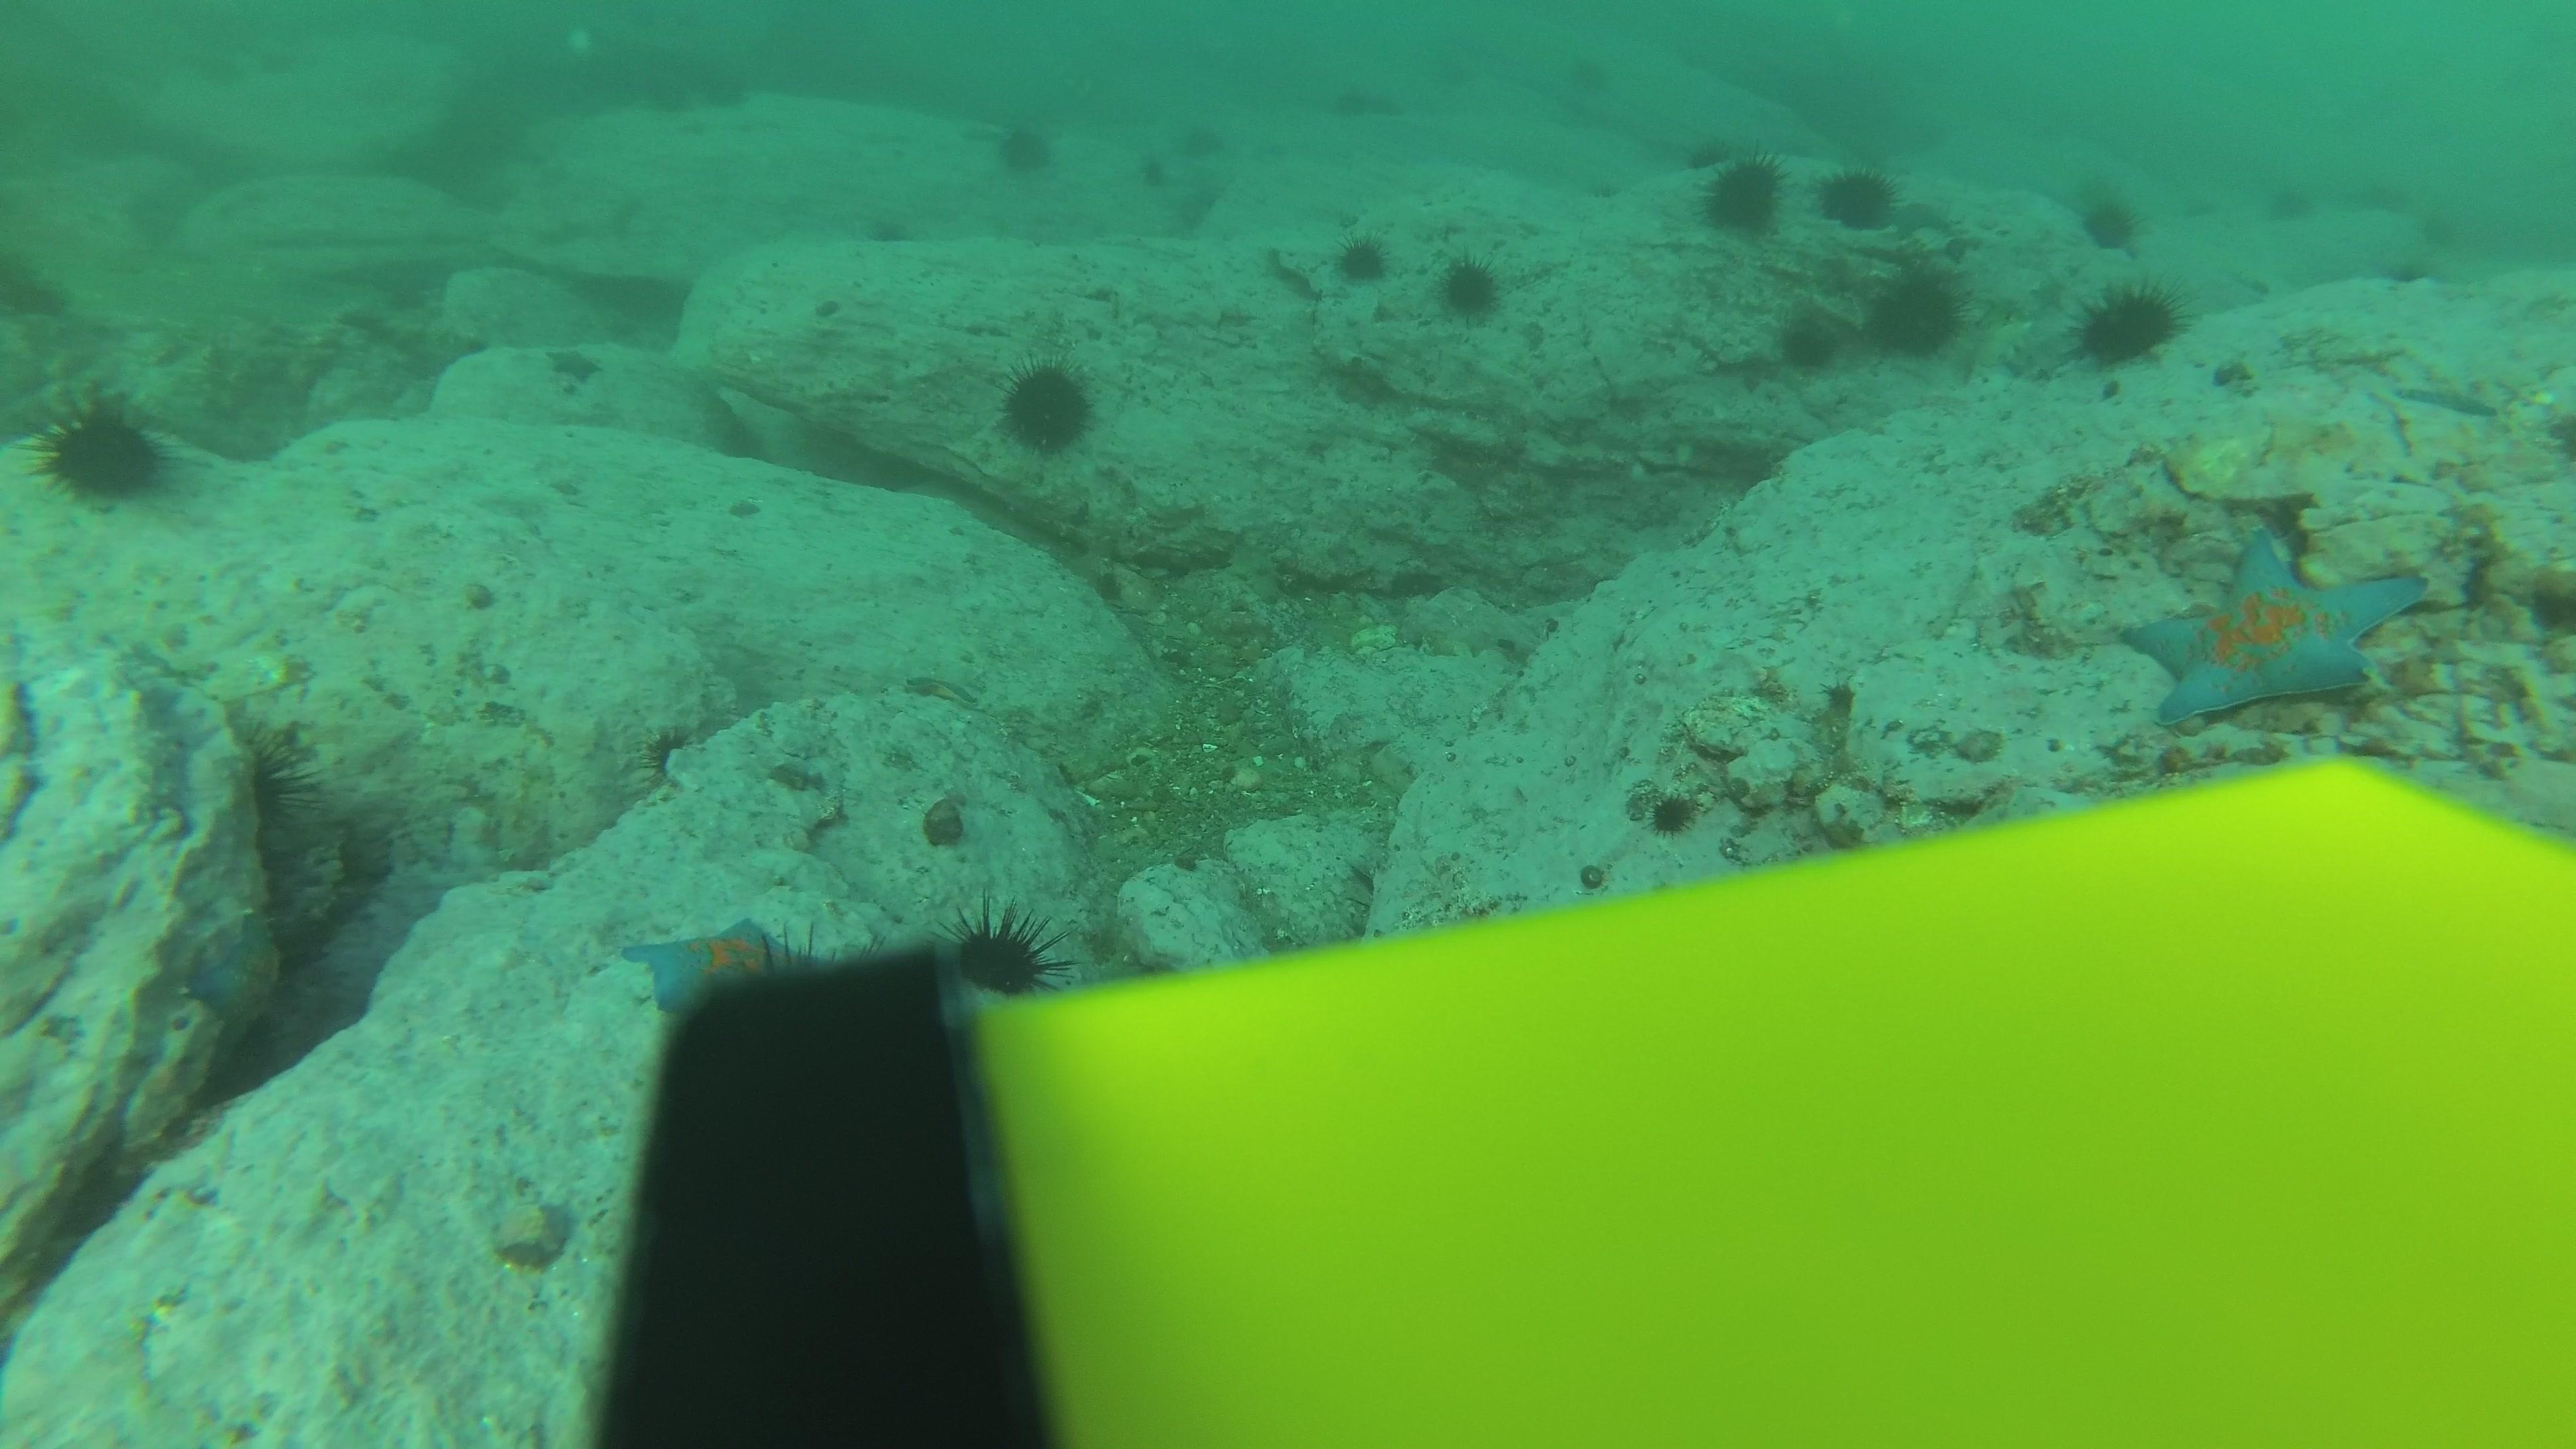echinus: (32, 389, 173, 511), (195, 713, 336, 833), (941, 904, 1063, 1001), (996, 356, 1100, 458), (2072, 278, 2181, 370), (1867, 264, 1966, 361), (1697, 150, 1785, 239), (1817, 161, 1898, 232), (1435, 251, 1507, 324), (2075, 186, 2143, 251), (991, 115, 1058, 180), (1775, 310, 1840, 373), (1332, 230, 1391, 287), (702, 73, 761, 122), (855, 207, 913, 257), (1177, 115, 1233, 163), (2263, 186, 2323, 228), (1341, 87, 1396, 127), (1684, 133, 1737, 173), (1576, 168, 1629, 209), (1568, 53, 1621, 94), (1654, 791, 1697, 839)
holothurian: (1973, 299, 2038, 373)
starfish: (2118, 525, 2431, 731), (616, 911, 821, 1033), (180, 909, 290, 1044), (901, 660, 987, 708), (1890, 195, 1960, 241), (543, 341, 605, 391)
